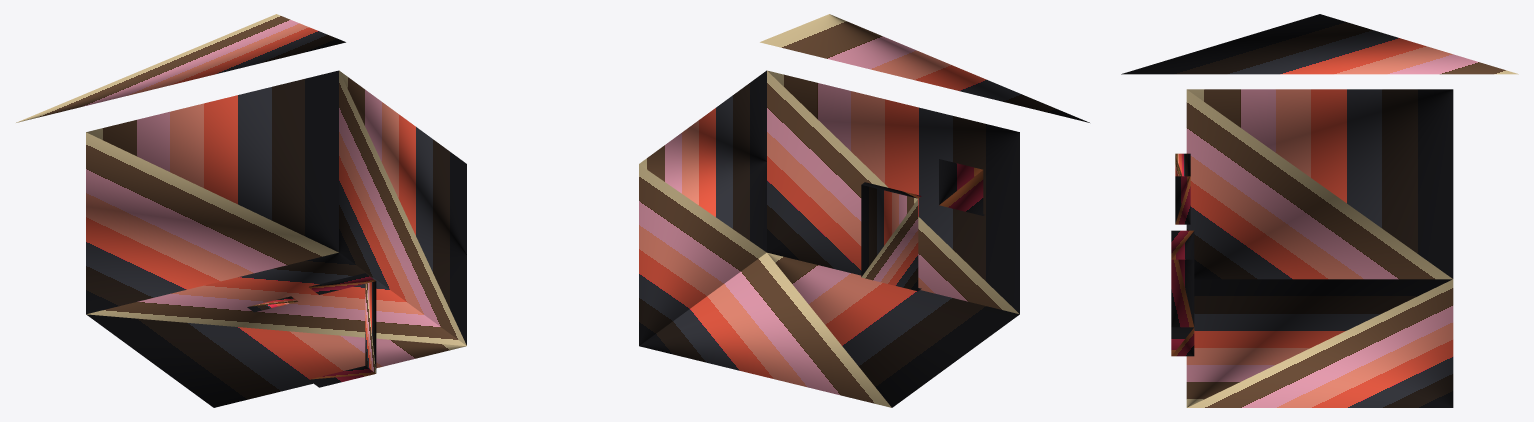
File: house.glb
3 renders of one model, left to right at view 1: azimuth 30°, elevation 25°; view 2: azimuth 150°, elevation 25°; view 3: azimuth 270°, elevation 25°, orthographic. The views are drawn at different scales.
Visible parts, largest first — view 1: house; view 2: house; view 3: house.
Part boxes in pixels (x1=…): house: x1=16, y1=14, x2=466, y2=407; house: x1=639, y1=14, x2=1089, y2=407; house: x1=1121, y1=14, x2=1518, y2=407.
Size of the model in its own units: 1.05 by 0.955 by 1.05.
1 material, 1 textured.
